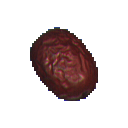gd: (16, 15, 109, 117)
